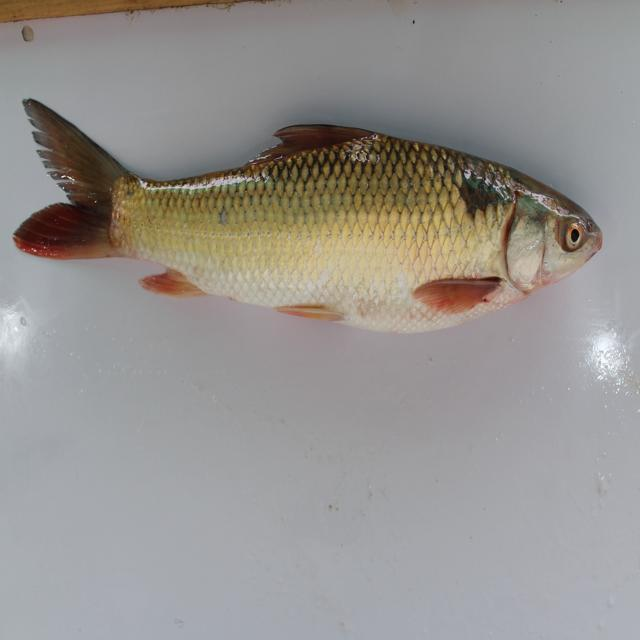Mori: (10, 90, 610, 336)
